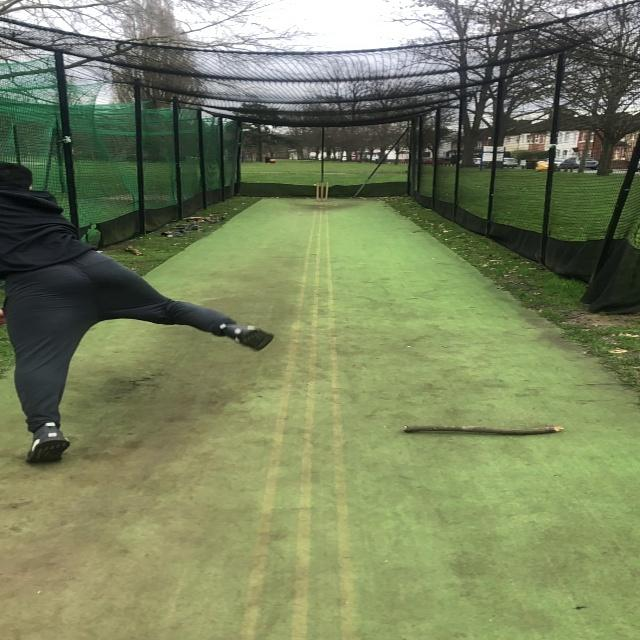ball: (269, 159, 276, 164)
